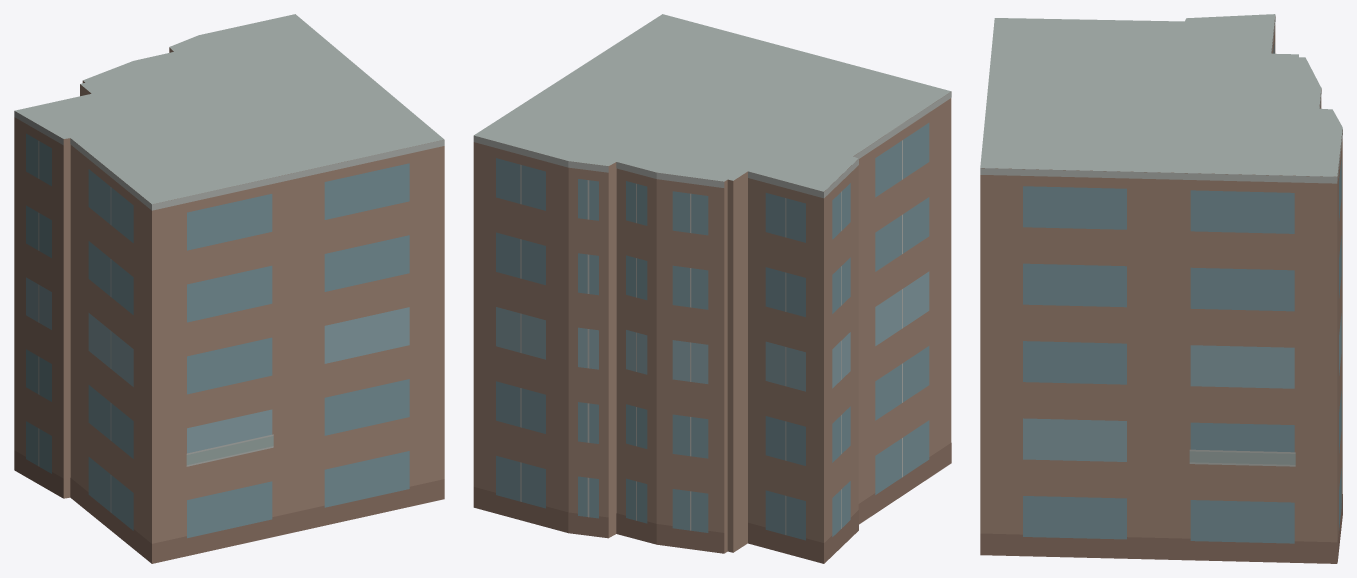
Rendered from survey-upis-32798742.glb.
The picture shows the model from 3 angles, left to right: view 1: azimuth 30°, elevation 25°; view 2: azimuth 150°, elevation 25°; view 3: azimuth 270°, elevation 25°; orthographic projection. The views are drawn at different scales.
Parts seen in each view (by area): view 1: survey-upis-32798742.tmp; view 2: survey-upis-32798742.tmp; view 3: survey-upis-32798742.tmp.
Boxes of the visible parts, x1,y1,x2,y2 form: survey-upis-32798742.tmp: [14, 14, 444, 563]; survey-upis-32798742.tmp: [473, 14, 951, 563]; survey-upis-32798742.tmp: [980, 14, 1342, 563].
Bounding box in the file's own units: 12.5 × 13.85 × 11.77.
